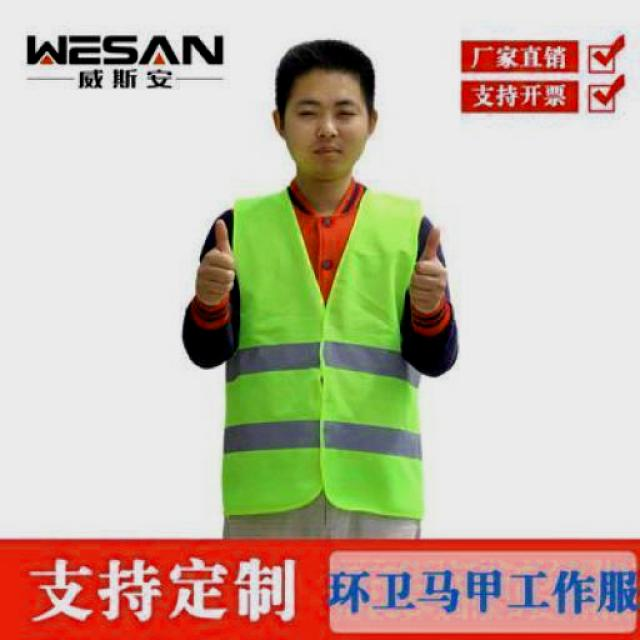face_nomask: (286, 94, 366, 168)
hand_noglove: (400, 226, 456, 320), (188, 216, 240, 314)
head_nohelmet: (268, 27, 384, 91)
person: (176, 34, 466, 538)
vest: (221, 184, 427, 524)
